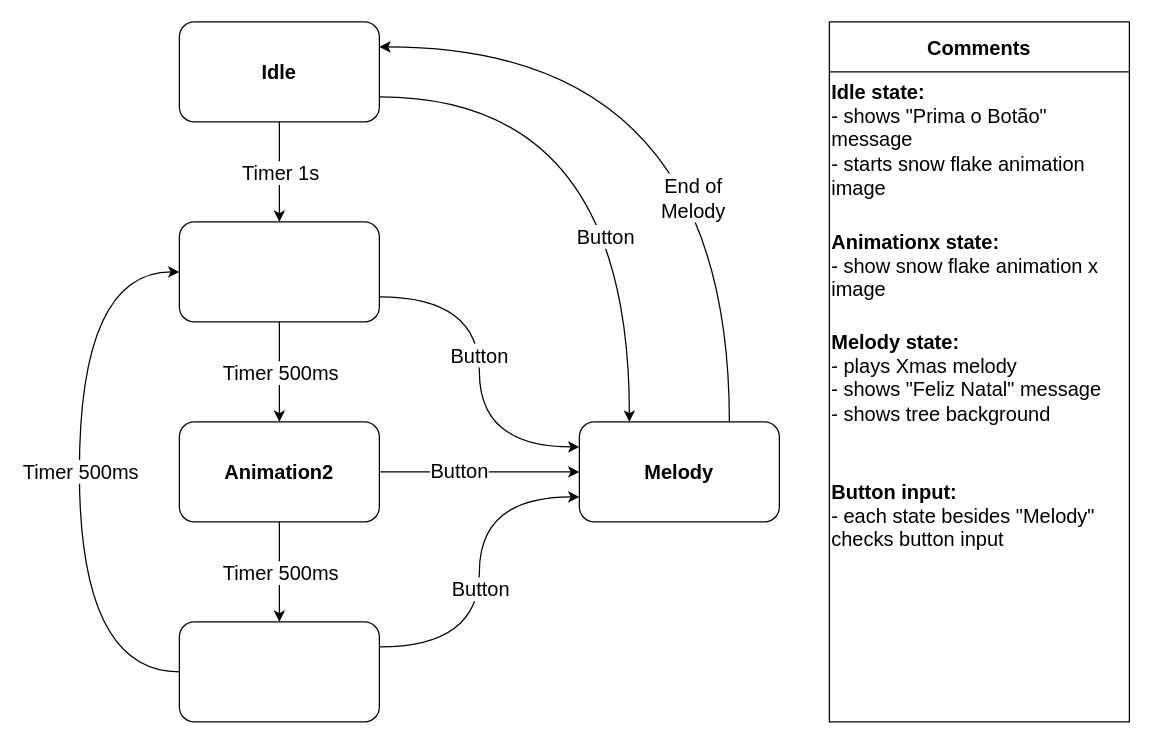
The diagram is 1151 pixels wide and 744 high, and some of its shapes have lost their labels. Each missing label, with the centre of its shape:
"Animation1" belongs at point (278, 271).
"Animation3" belongs at point (278, 671).
